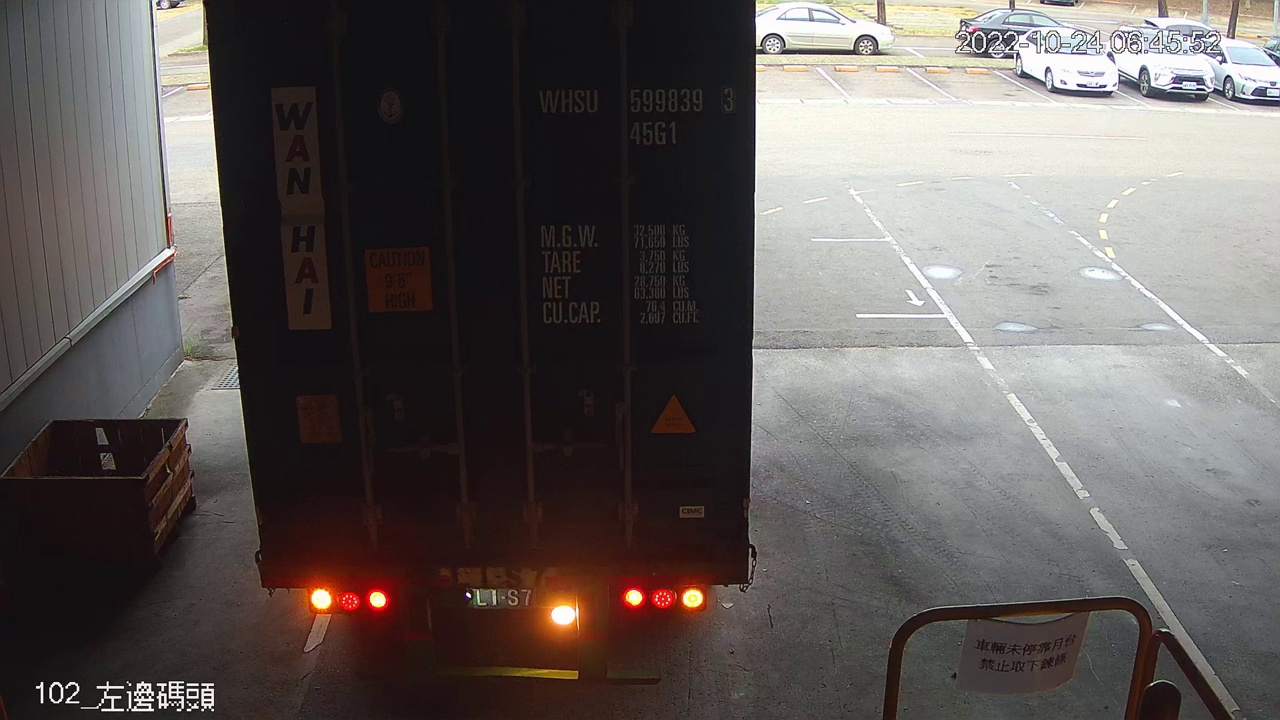container: (530, 77, 743, 154)
